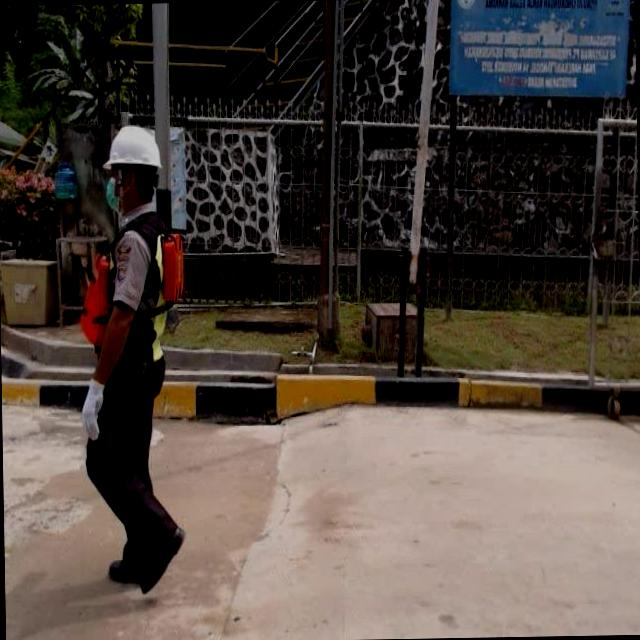vest: (75, 220, 186, 368)
